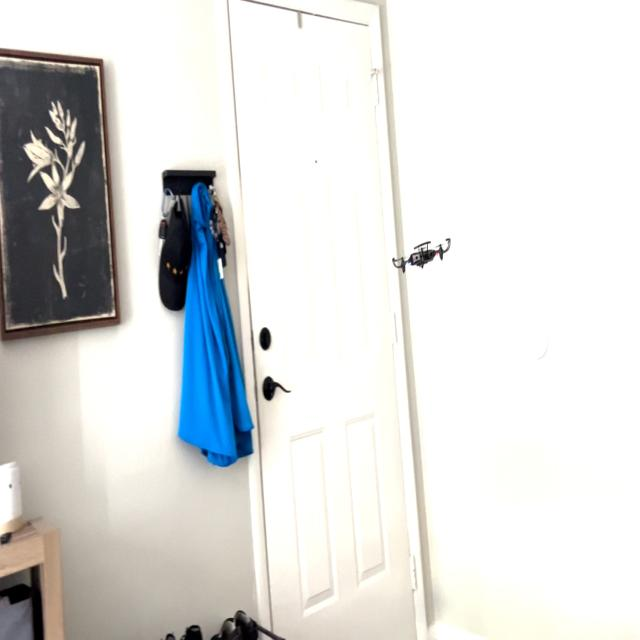drone: (385, 227, 458, 291)
